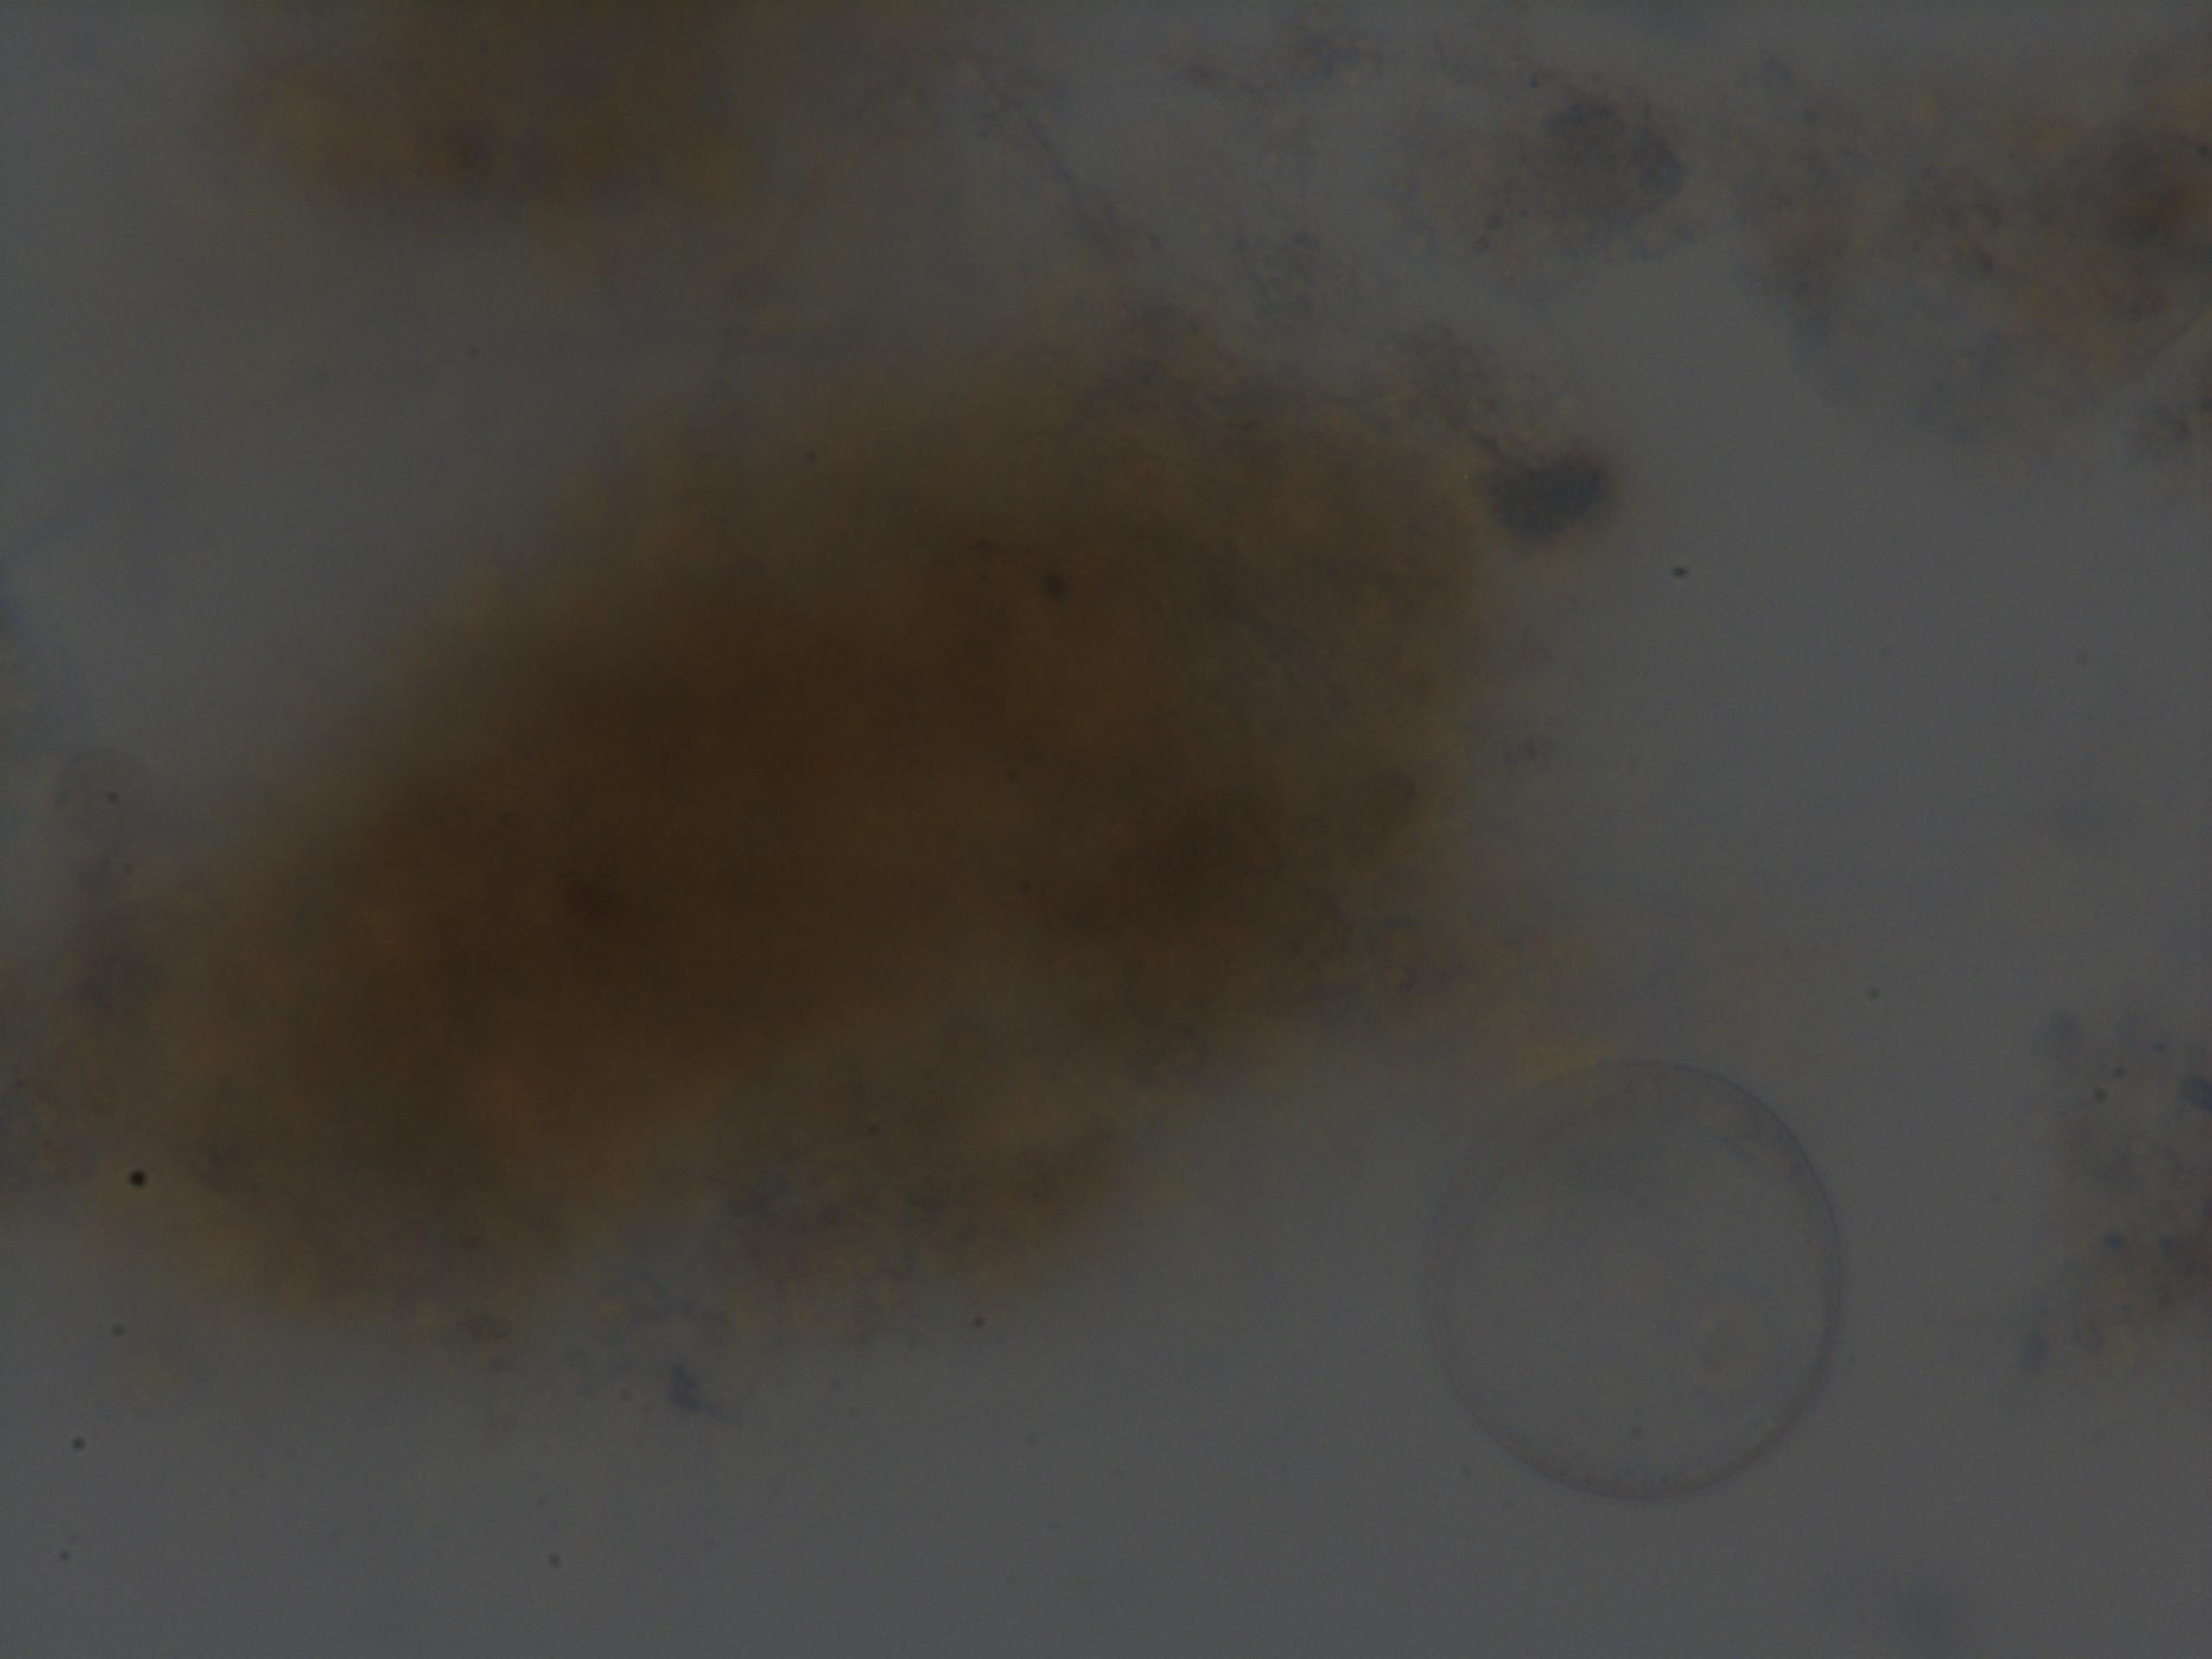spherical_floc: (42, 322, 1554, 1359)
